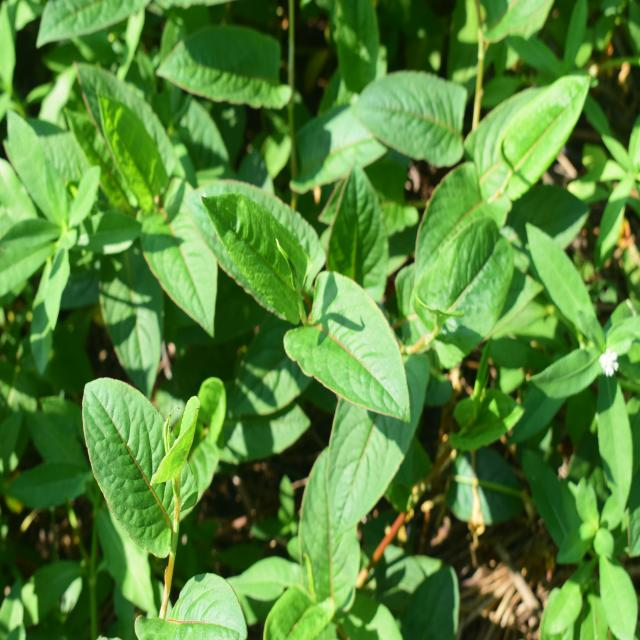Chinese_knotweed: (212, 134, 441, 483)
